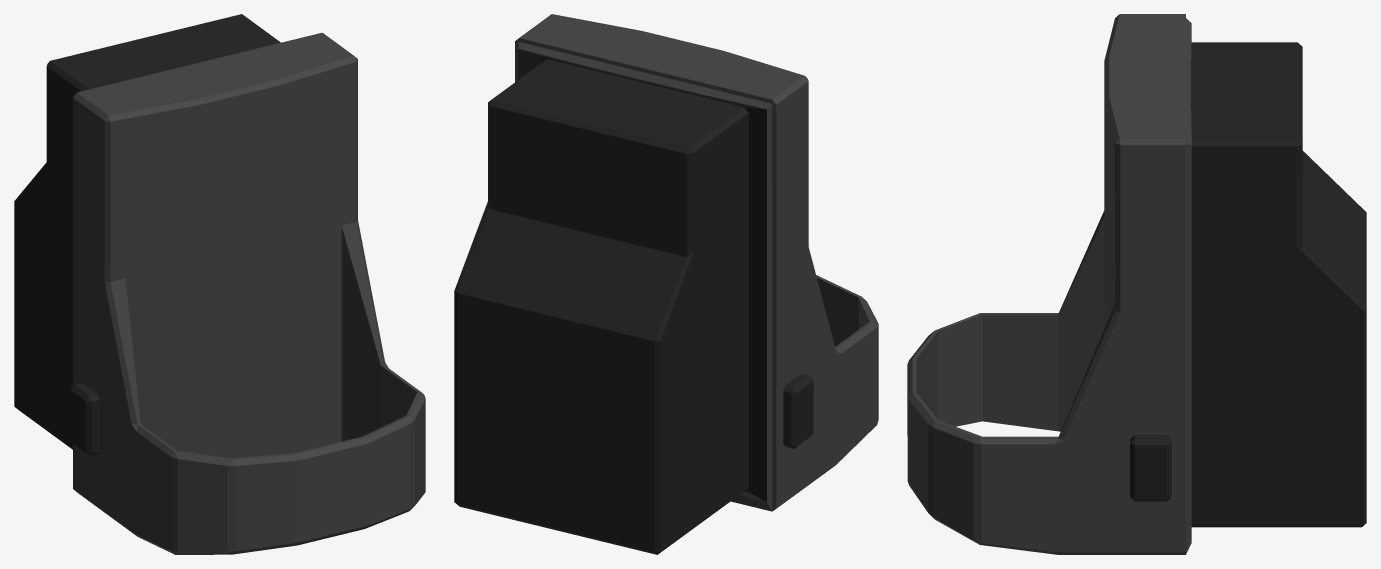
The model's file is SMGRedDot.glb.
3 views of the same model, side by side, from view 1: azimuth 30°, elevation 25°; view 2: azimuth 150°, elevation 25°; view 3: azimuth 270°, elevation 25° (orthographic). The views are drawn at different scales.
Visible parts, largest first — view 1: SMGRedDot; view 2: SMGRedDot; view 3: SMGRedDot.
Part boxes in pixels (box(x1,y1,x2,y2)): SMGRedDot: box(14, 14, 425, 554); SMGRedDot: box(454, 14, 878, 554); SMGRedDot: box(907, 14, 1366, 554).
Size of the model in its own units: 1.04 by 1.43 by 1.43.
Materials: 1 (1 with a texture image).
